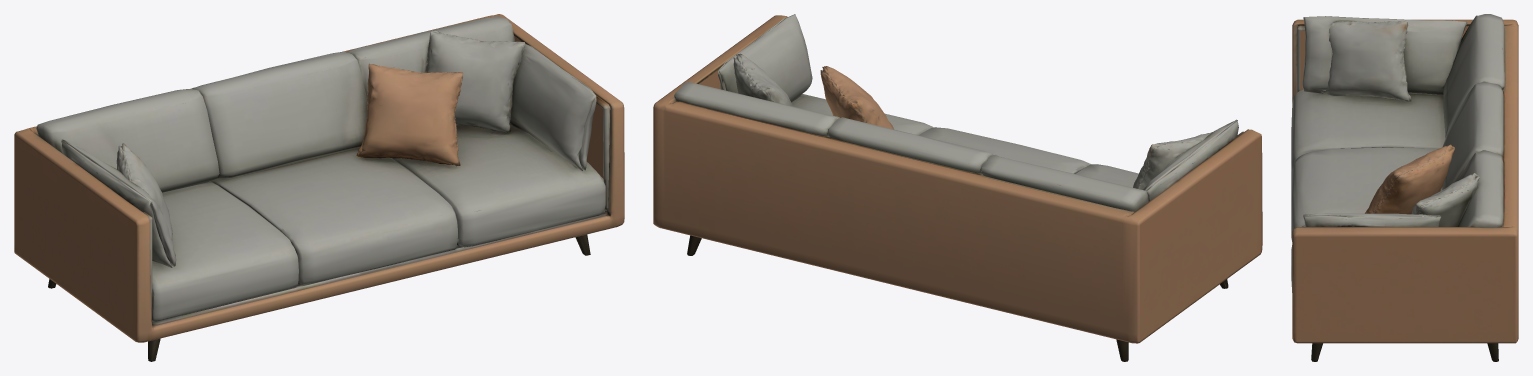
The picture shows the model from 3 angles, left to right: view 1: azimuth 30°, elevation 25°; view 2: azimuth 150°, elevation 25°; view 3: azimuth 270°, elevation 25°; orthographic projection. The views are drawn at different scales.
Visible parts, largest first — view 1: tripo_node_51008839-509b-4400-b831-1dc35aec94aa; view 2: tripo_node_51008839-509b-4400-b831-1dc35aec94aa; view 3: tripo_node_51008839-509b-4400-b831-1dc35aec94aa.
Boxes of the visible parts, x1,y1,x2,y2 form: tripo_node_51008839-509b-4400-b831-1dc35aec94aa: (14,14,624,361); tripo_node_51008839-509b-4400-b831-1dc35aec94aa: (653,14,1262,361); tripo_node_51008839-509b-4400-b831-1dc35aec94aa: (1291,14,1518,361).
Size of the model in its own units: 2.1 by 0.7192 by 0.9411.
Materials: 1 (1 with a texture image).
